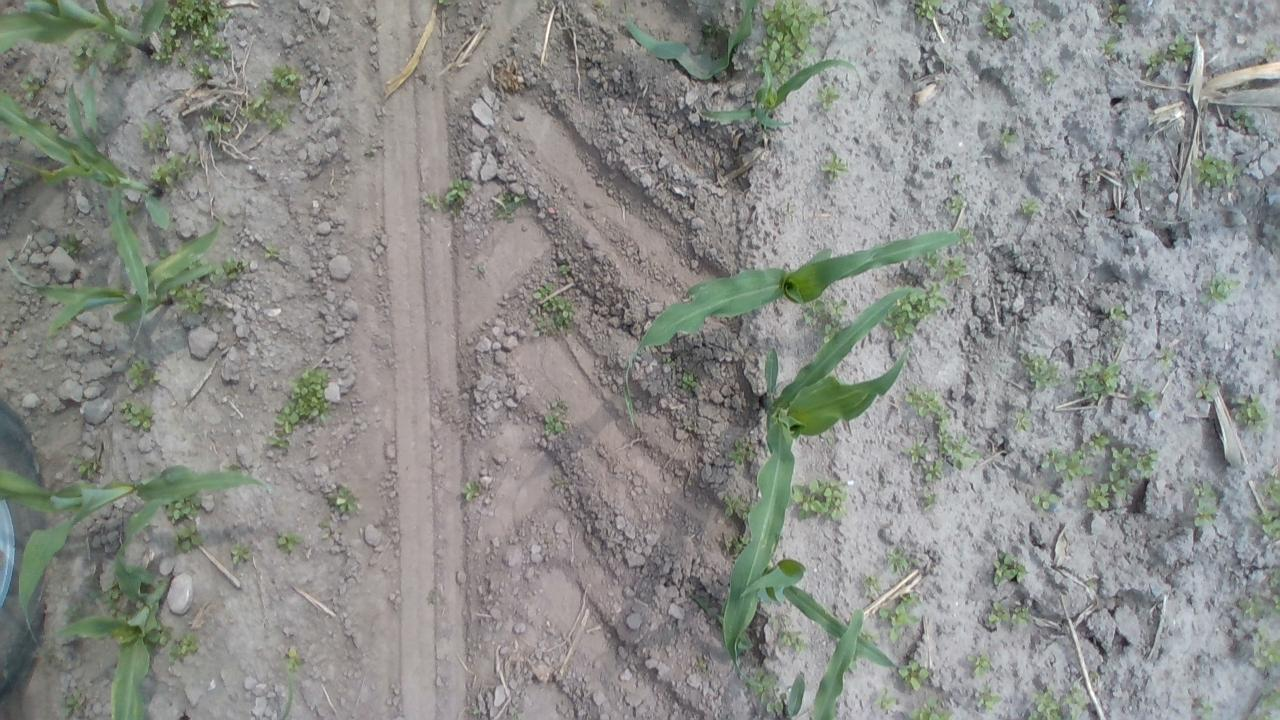Maize: (721, 278, 934, 668), (625, 222, 963, 420), (0, 464, 276, 640), (0, 68, 172, 342), (5, 218, 223, 338), (52, 554, 178, 720), (750, 609, 896, 720), (696, 44, 865, 132), (0, 0, 170, 66), (619, 1, 763, 78)
Weeds: (755, 1, 827, 80), (1088, 432, 1159, 512), (158, 0, 238, 69), (272, 361, 334, 442), (882, 281, 949, 340), (1027, 672, 1102, 720), (790, 478, 850, 524), (877, 591, 921, 644), (804, 296, 850, 345), (1074, 358, 1126, 400), (744, 670, 789, 718), (535, 286, 578, 334), (1241, 568, 1280, 620), (240, 92, 292, 131), (1042, 445, 1092, 484), (1193, 152, 1244, 190), (936, 425, 980, 469), (904, 385, 951, 425), (1019, 349, 1063, 390), (148, 153, 200, 186), (425, 176, 472, 212), (772, 616, 810, 654), (1252, 624, 1280, 674), (1199, 270, 1239, 305), (1233, 392, 1269, 430), (981, 1, 1016, 40), (992, 550, 1028, 586), (68, 34, 102, 72), (984, 600, 1030, 628), (164, 494, 204, 526), (118, 400, 156, 433), (1192, 481, 1218, 528), (210, 255, 252, 284), (265, 62, 303, 94), (541, 398, 572, 437), (172, 283, 208, 316), (905, 696, 954, 720), (922, 462, 946, 510), (898, 658, 931, 692), (327, 483, 360, 516), (126, 358, 160, 389), (493, 188, 525, 219), (170, 632, 202, 662), (102, 586, 130, 620), (728, 437, 758, 467), (940, 254, 970, 284), (902, 440, 934, 468), (1128, 382, 1160, 409), (174, 526, 204, 554), (202, 106, 232, 134), (16, 72, 44, 102), (974, 684, 1004, 712), (1029, 486, 1061, 512), (886, 548, 918, 574), (1167, 33, 1193, 64), (1256, 687, 1280, 720), (140, 120, 166, 150), (1254, 508, 1277, 541), (1193, 379, 1221, 406), (59, 689, 85, 718), (967, 648, 993, 677), (275, 531, 305, 556), (1141, 49, 1168, 76), (822, 154, 848, 182), (105, 39, 128, 70), (723, 492, 748, 519), (818, 84, 841, 112), (228, 542, 254, 566), (1126, 159, 1150, 184), (60, 233, 86, 256), (1104, 3, 1130, 26), (1256, 474, 1277, 502), (148, 622, 172, 646), (996, 126, 1020, 150), (1009, 409, 1033, 433), (874, 690, 898, 714), (944, 194, 969, 217), (75, 458, 101, 480), (700, 16, 726, 38), (915, 0, 941, 22), (1232, 108, 1254, 131), (314, 516, 336, 539), (922, 250, 944, 273), (1018, 197, 1042, 218), (192, 62, 216, 83), (1108, 304, 1130, 326), (284, 648, 302, 674), (679, 372, 700, 394), (726, 532, 749, 552), (461, 481, 482, 502), (63, 600, 83, 622), (1108, 330, 1130, 350), (1196, 700, 1218, 720), (1038, 68, 1062, 86), (84, 574, 101, 598), (1100, 36, 1120, 56), (1259, 45, 1280, 64), (1157, 348, 1174, 371), (860, 575, 881, 593), (264, 243, 283, 262), (1024, 19, 1044, 36), (112, 13, 134, 28), (956, 226, 974, 244), (860, 628, 879, 644), (658, 354, 678, 369), (188, 259, 210, 271), (222, 461, 242, 474), (556, 262, 572, 278), (366, 142, 380, 158), (848, 658, 861, 674), (158, 245, 172, 258), (470, 264, 486, 274), (426, 593, 438, 606), (699, 660, 710, 672), (554, 476, 566, 486), (1274, 344, 1280, 363)
